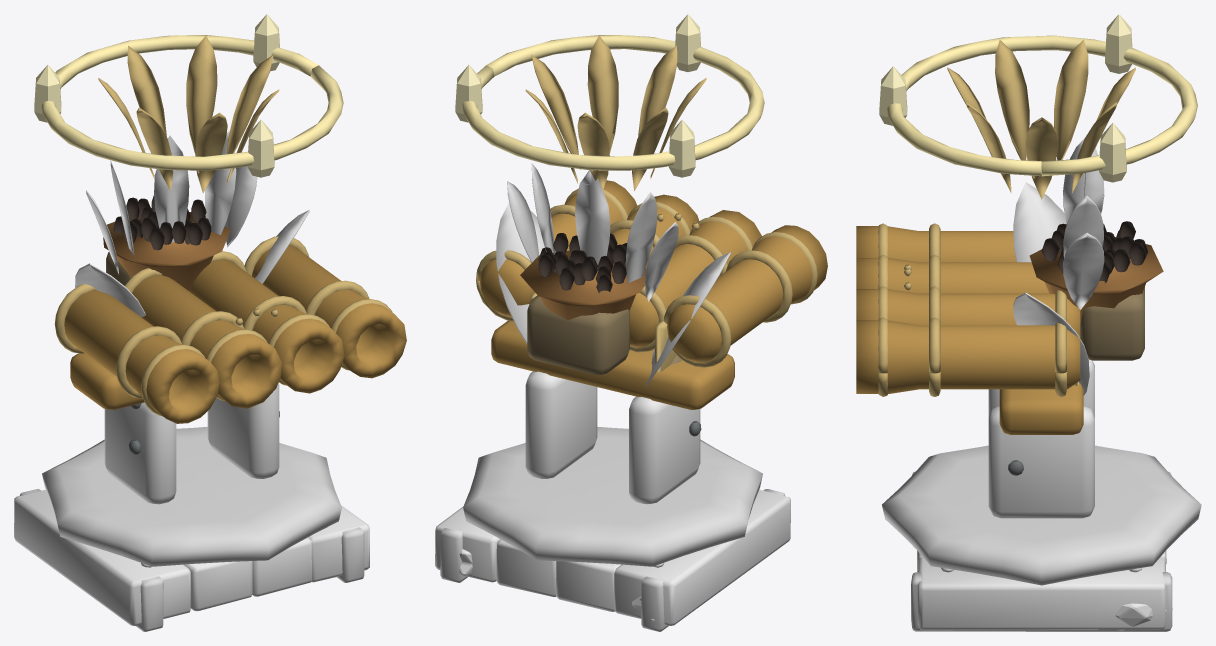
File: seed-5.fbx
The picture shows the model from 3 angles, left to right: view 1: azimuth 30°, elevation 25°; view 2: azimuth 150°, elevation 25°; view 3: azimuth 270°, elevation 25°; orthographic projection. The views are drawn at different scales.
Parts seen in each view (by area): view 1: Barrel_Metal, SuperPlinth, Base_Bark, Ring03_SuperGlow, Turret_Metal, Turret_Bark, Turret_Organic, Petals_Metal, Base_Metal, Petals_Leaf; view 2: SuperPlinth, Barrel_Metal, Turret_Metal, Base_Bark, Turret_Bark, Ring03_SuperGlow, Petals_Metal, Turret_Organic, Petals_Leaf, Base_Metal; view 3: Barrel_Metal, SuperPlinth, Turret_Metal, Base_Bark, Ring03_SuperGlow, Turret_Bark, Turret_Organic, Petals_Metal, Petals_Leaf, Base_Metal, Base_Stone.
Part boxes in pixels (x1,y1,x2,y2): Barrel_Metal: [54, 236, 406, 423]; SuperPlinth: [42, 427, 341, 566]; Base_Bark: [14, 490, 369, 625]; Ring03_SuperGlow: [34, 14, 343, 177]; Turret_Metal: [70, 35, 279, 454]; Turret_Bark: [104, 383, 279, 504]; Turret_Organic: [103, 195, 230, 291]; Petals_Metal: [86, 131, 257, 274]; Base_Metal: [19, 489, 364, 631]; Petals_Leaf: [75, 210, 309, 317]; SuperPlinth: [463, 426, 762, 566]; Barrel_Metal: [476, 180, 827, 367]; Turret_Metal: [491, 35, 734, 436]; Base_Bark: [435, 490, 790, 625]; Turret_Bark: [525, 371, 700, 504]; Ring03_SuperGlow: [455, 14, 764, 177]; Petals_Metal: [507, 163, 678, 301]; Turret_Organic: [520, 233, 645, 319]; Petals_Leaf: [496, 202, 730, 386]; Base_Metal: [440, 489, 785, 631]; Barrel_Metal: [856, 223, 1080, 396]; SuperPlinth: [882, 445, 1201, 585]; Turret_Metal: [904, 39, 1144, 475]; Base_Bark: [917, 550, 1166, 630]; Ring03_SuperGlow: [879, 14, 1197, 182]; Turret_Bark: [988, 359, 1094, 518]; Turret_Organic: [1029, 221, 1163, 322]; Petals_Metal: [1063, 138, 1104, 309]; Petals_Leaf: [1013, 182, 1089, 395]; Base_Metal: [911, 471, 1172, 631]; Base_Stone: [1115, 603, 1172, 631].
Bounding box in the file's own units: 111 × 195 × 120.
